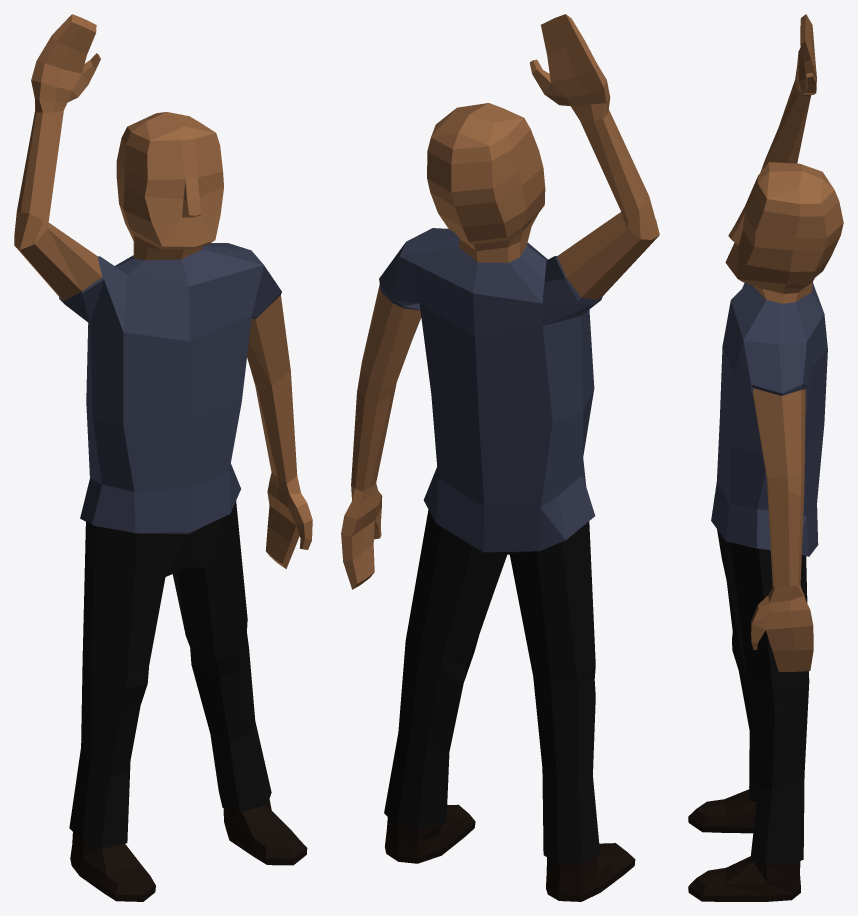
File: Male_Standing_Waving.obj
The picture shows the model from 3 angles, left to right: view 1: azimuth 30°, elevation 25°; view 2: azimuth 150°, elevation 25°; view 3: azimuth 270°, elevation 25°; orthographic projection. The views are drawn at different scales.
Visible parts, largest first — view 1: Male_Standing_Waving_Human_CylinderMesh.010; view 2: Male_Standing_Waving_Human_CylinderMesh.010; view 3: Male_Standing_Waving_Human_CylinderMesh.010.
Boxes of the visible parts, x1=… form: Male_Standing_Waving_Human_CylinderMesh.010: x1=14, y1=14, x2=312, y2=901; Male_Standing_Waving_Human_CylinderMesh.010: x1=341, y1=14, x2=659, y2=901; Male_Standing_Waving_Human_CylinderMesh.010: x1=688, y1=14, x2=843, y2=901.
Size of the model in its own units: 1.57 by 4.47 by 0.7819.
